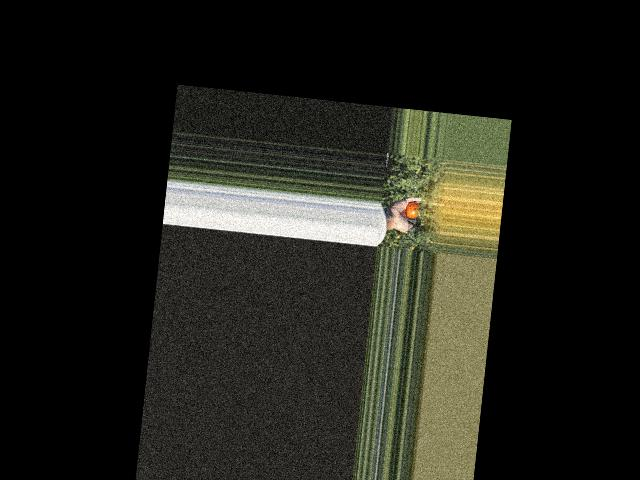tomato: (405, 200, 421, 218)
